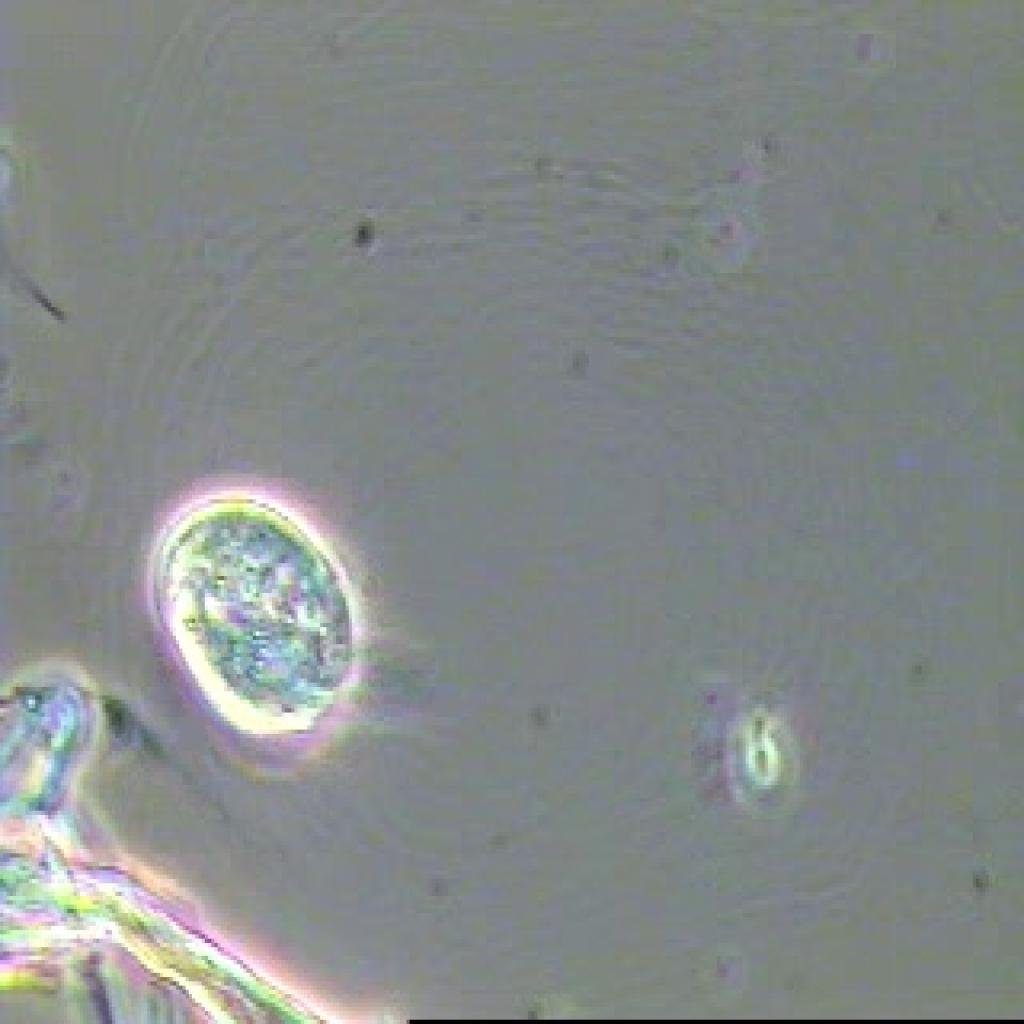Aspidisca: (133, 454, 453, 804)
